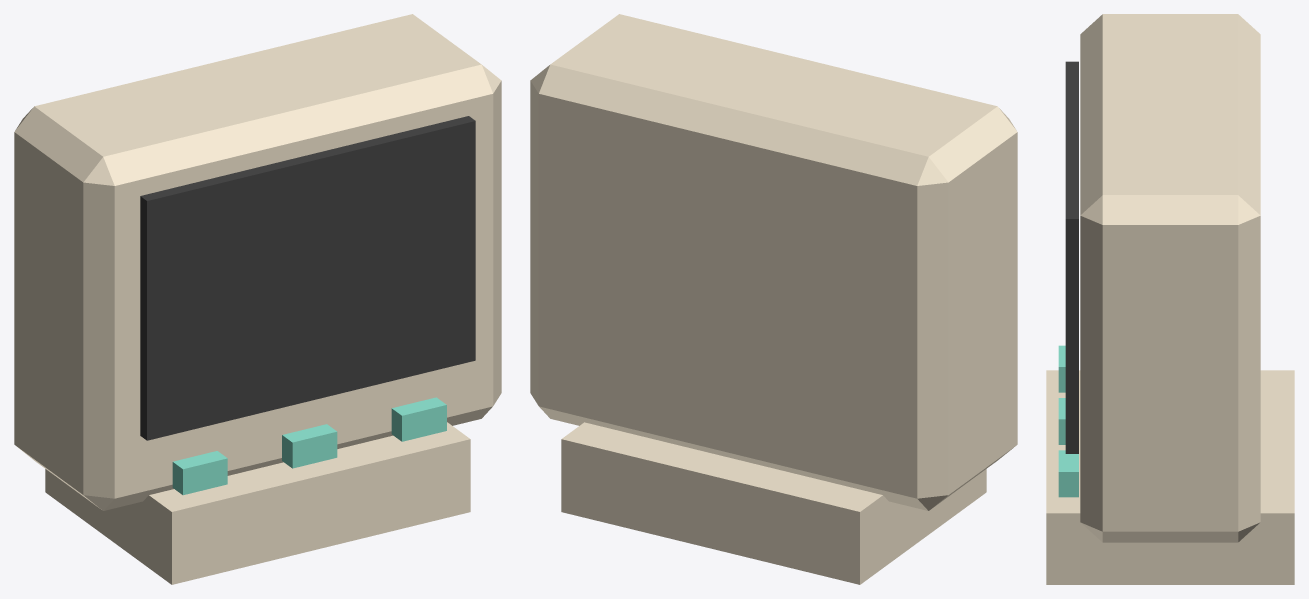
The picture shows the model from 3 angles, left to right: view 1: azimuth 30°, elevation 25°; view 2: azimuth 150°, elevation 25°; view 3: azimuth 270°, elevation 25°; orthographic projection.
Visible parts, largest first — view 1: Housing, Readout, Foot, Control, Control.002, Control.001; view 2: Housing, Foot; view 3: Housing, Foot, Readout, Control.002, Control, Control.001.
Boxes of the visible parts, bbox=[...] form: Housing: bbox=[14, 14, 501, 510]; Readout: bbox=[140, 116, 475, 440]; Foot: bbox=[45, 422, 470, 584]; Control: bbox=[172, 451, 227, 495]; Control.002: bbox=[391, 397, 446, 441]; Control.001: bbox=[282, 424, 337, 468]; Housing: bbox=[530, 14, 1017, 510]; Foot: bbox=[561, 422, 986, 584]; Housing: bbox=[1080, 14, 1260, 542]; Foot: bbox=[1046, 370, 1294, 584]; Readout: bbox=[1065, 61, 1078, 453]; Control.002: bbox=[1058, 450, 1078, 497]; Control: bbox=[1058, 345, 1065, 392]; Control.001: bbox=[1058, 398, 1065, 444].
Size of the model in its own units: 0.42 by 0.4 by 0.22.
1 material, 1 textured.
